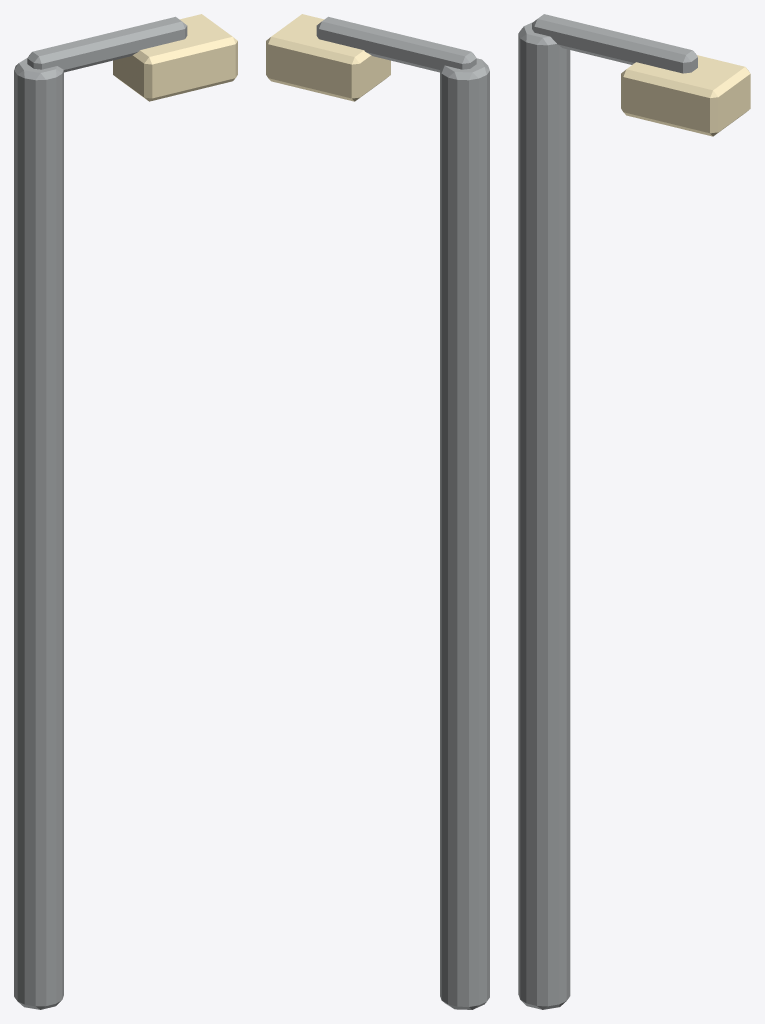
File: lamp.glb
3 renders of one model, left to right at view 1: azimuth 30°, elevation 25°; view 2: azimuth 150°, elevation 25°; view 3: azimuth 330°, elevation 25°, orthographic. The views are drawn at different scales.
Visible parts, largest first — view 1: pole, head, arm; view 2: pole, head, arm; view 3: pole, head, arm.
Part boxes in pixels (bbox=[...]): pole: bbox=[14, 57, 63, 1009]; head: bbox=[113, 14, 237, 101]; arm: bbox=[27, 16, 187, 72]; pole: bbox=[440, 58, 489, 1009]; head: bbox=[266, 14, 390, 101]; arm: bbox=[316, 16, 476, 72]; pole: bbox=[518, 22, 570, 1009]; head: bbox=[621, 55, 750, 136]; arm: bbox=[532, 14, 697, 73].
Bounding box in the file's own units: 0.481 × 2.12 × 0.15.
